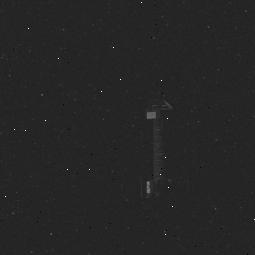xmm_newton: (110, 85, 194, 213)
